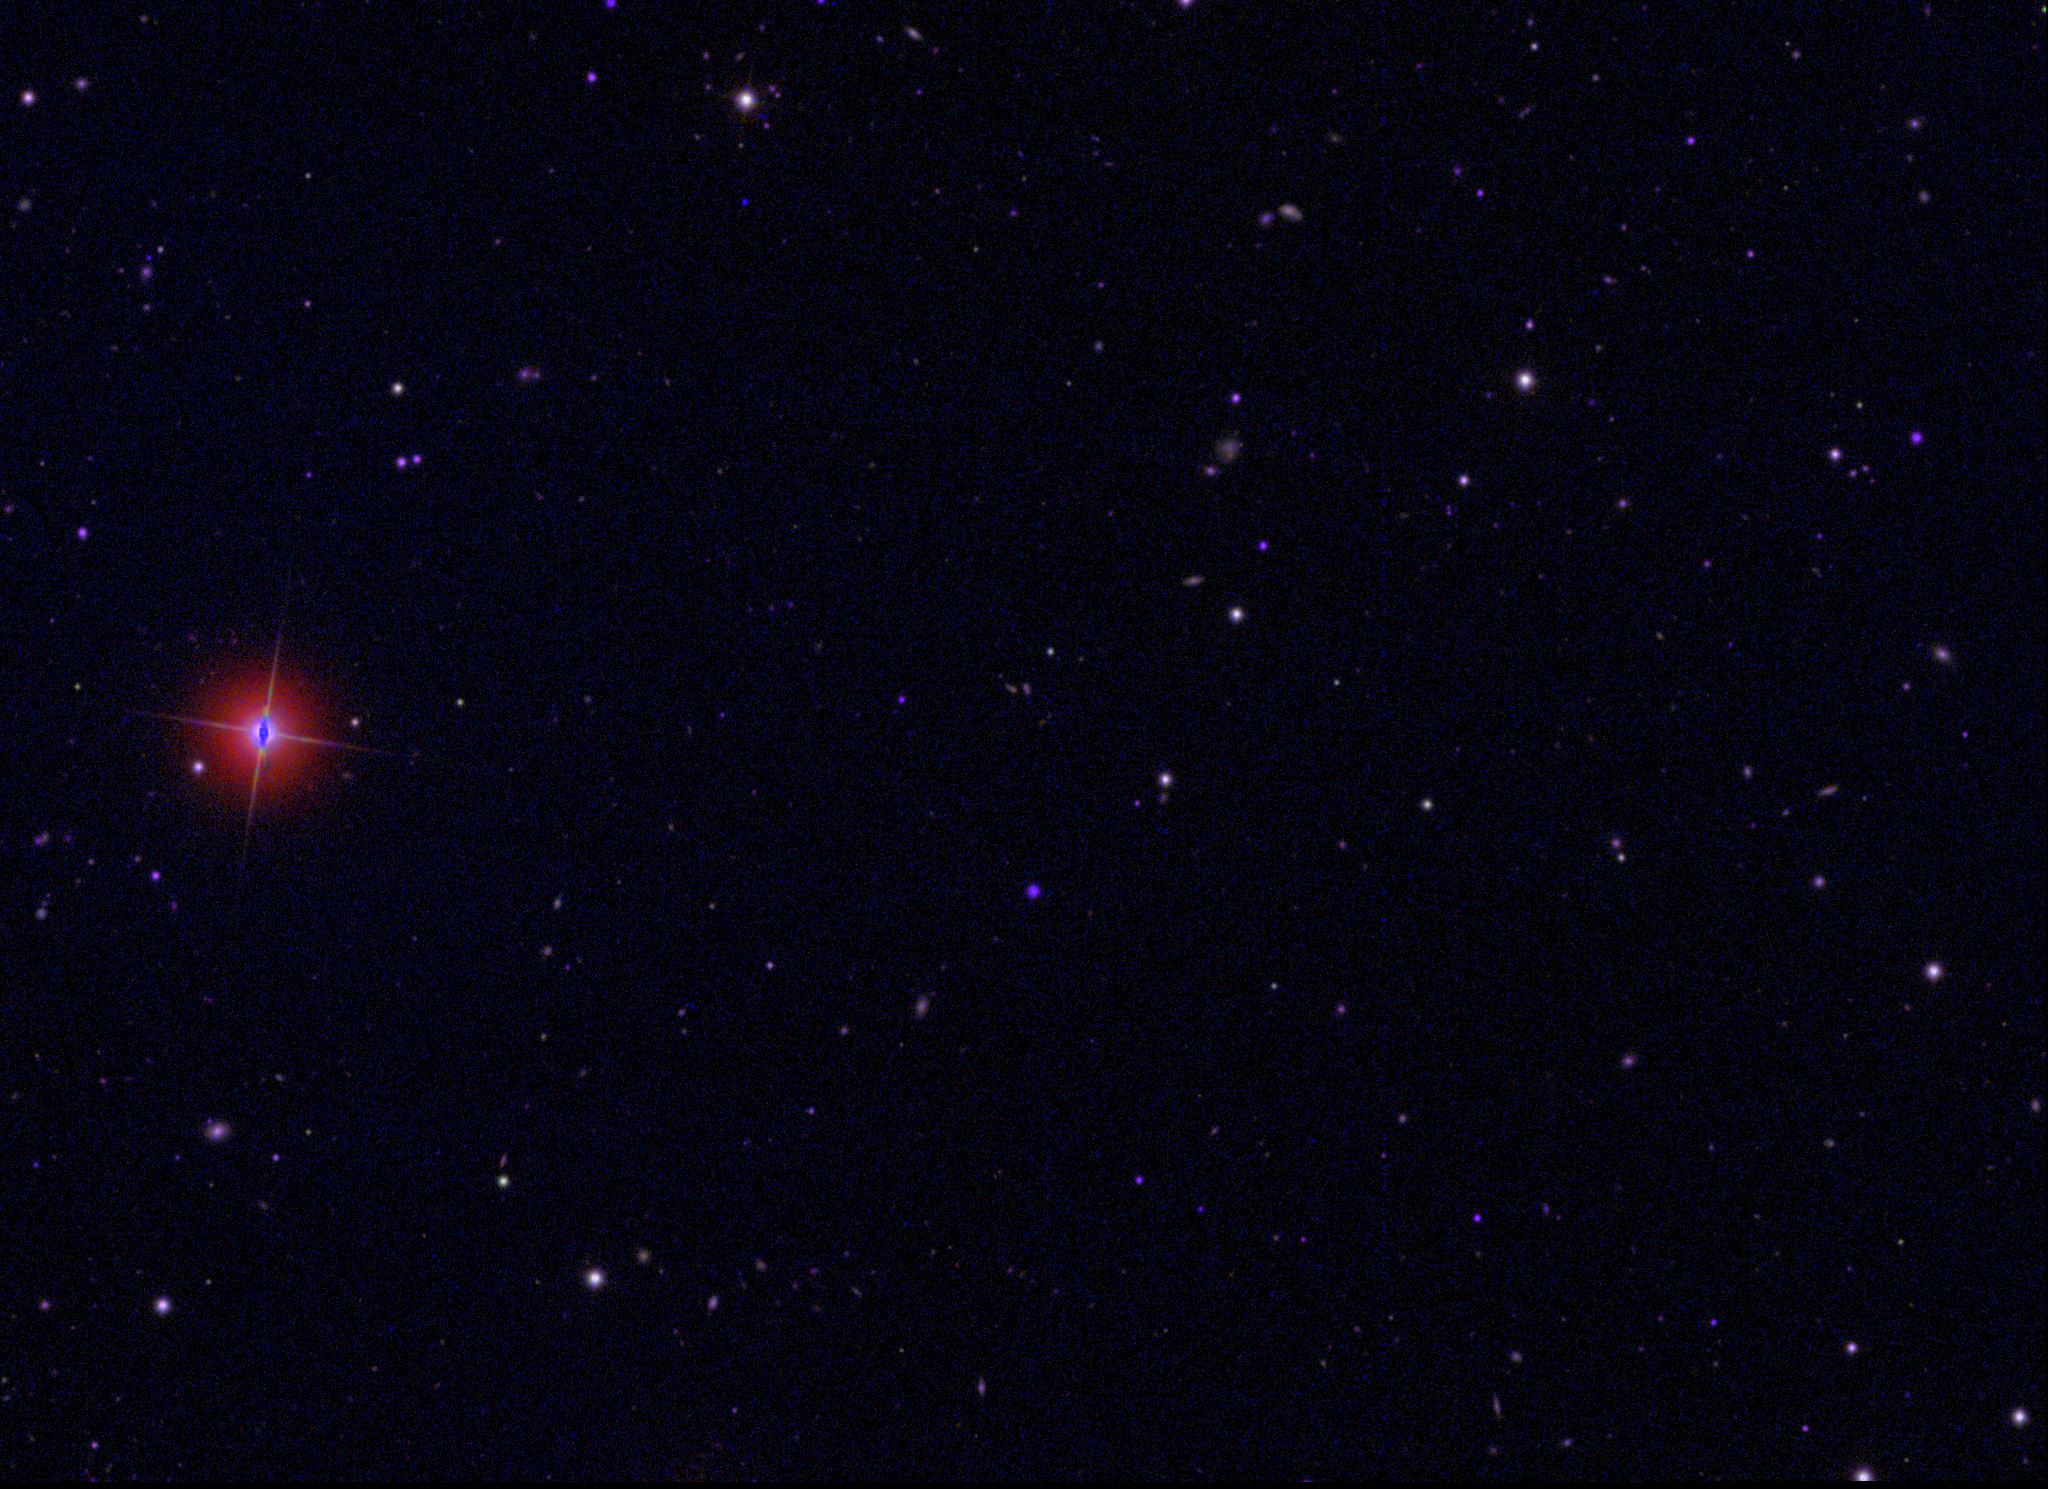L: (735, 196, 749, 210)
